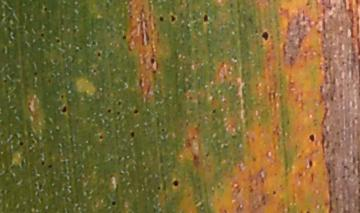tarspot: (260, 30, 270, 43), (168, 13, 178, 25), (60, 103, 68, 114), (202, 13, 209, 25), (171, 179, 180, 188), (307, 133, 315, 143), (17, 139, 25, 149), (74, 46, 84, 54), (307, 157, 314, 168), (159, 126, 167, 135), (260, 194, 266, 206), (309, 171, 315, 183), (301, 48, 310, 56), (115, 99, 123, 107), (259, 175, 266, 184), (247, 183, 253, 193), (315, 27, 321, 37), (285, 117, 291, 127), (157, 15, 165, 22), (149, 57, 156, 65), (97, 133, 104, 141), (39, 159, 46, 167), (58, 93, 65, 101), (54, 36, 61, 44), (246, 16, 254, 23), (303, 1, 311, 8), (296, 171, 304, 178), (129, 130, 135, 139), (96, 50, 101, 60), (329, 93, 334, 103), (131, 108, 138, 115), (31, 70, 38, 77), (114, 110, 121, 117), (105, 107, 112, 114), (90, 39, 97, 46), (231, 55, 238, 62), (110, 199, 116, 207), (38, 31, 46, 37), (42, 5, 48, 13), (204, 150, 210, 158), (150, 68, 157, 74), (120, 34, 127, 40), (155, 185, 162, 191), (46, 163, 53, 169), (210, 108, 217, 114), (46, 77, 52, 84), (48, 72, 54, 79), (2, 78, 9, 84), (250, 155, 256, 162), (337, 93, 344, 99), (276, 6, 284, 11), (192, 152, 197, 160), (271, 189, 277, 195), (71, 27, 77, 33), (222, 207, 228, 213), (303, 208, 310, 213), (191, 134, 196, 141), (106, 1, 113, 6), (187, 94, 192, 101), (196, 98, 201, 105), (222, 73, 227, 80), (91, 68, 97, 73), (127, 14, 134, 18)
